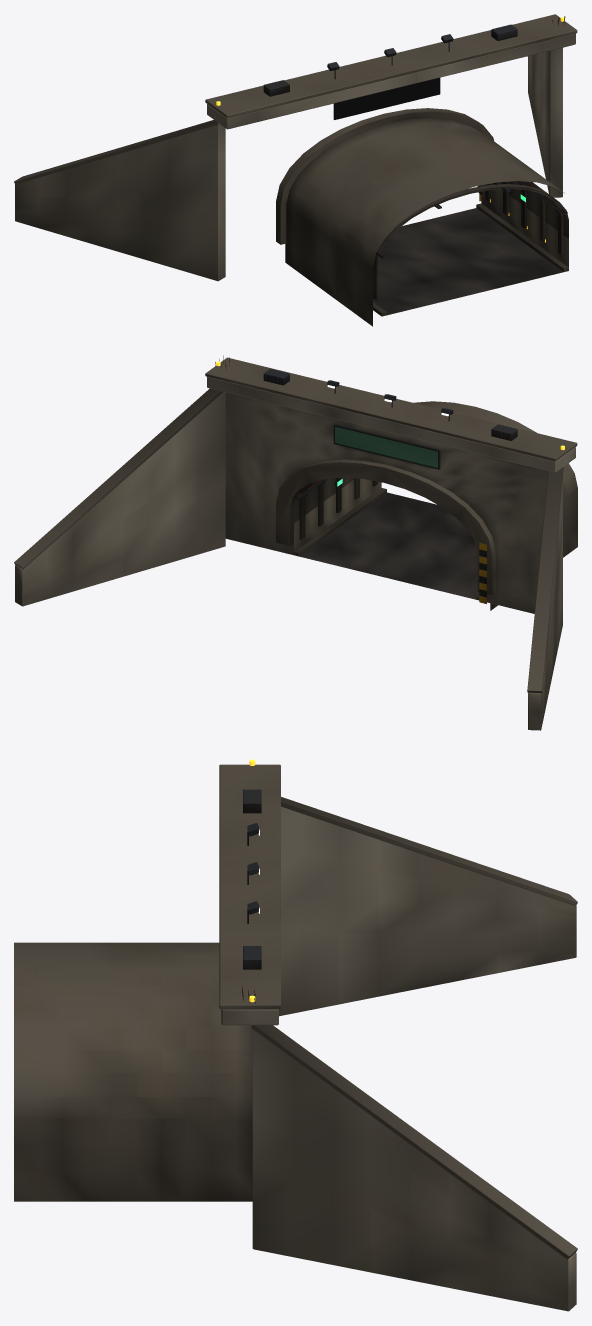
File: tunnel_portal_concrete.glb
3 renders of one model, top to bottom at view 1: azimuth 30°, elevation 25°; view 2: azimuth 150°, elevation 25°; view 3: azimuth 270°, elevation 25°, orthographic. The views are drawn at different scales.
Visible parts, largest first — view 1: concrete_dark, concrete, road_surface, metal_dark; view 2: concrete, concrete_dark, road_surface, metal_dark, paint2, hazard; view 3: concrete, concrete_dark, metal_dark.
Boxes of the visible parts, <box> form: concrete_dark: <box>14,14,577,326</box>; concrete: <box>15,33,575,281</box>; road_surface: <box>373,208,563,315</box>; metal_dark: <box>263,24,567,258</box>; concrete: <box>15,376,575,730</box>; concrete_dark: <box>14,357,577,693</box>; road_surface: <box>299,492,479,599</box>; metal_dark: <box>263,369,517,499</box>; paint2: <box>335,427,437,467</box>; hazard: <box>479,543,486,603</box>; concrete: <box>221,806,576,1311</box>; concrete_dark: <box>14,764,577,1259</box>; metal_dark: <box>243,789,261,969</box>.
Size of what is drawn, in the model's own units: 41.7 by 14.32 by 27.45.
